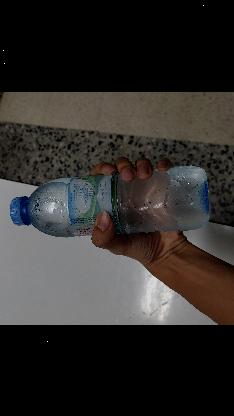Plastic Bottle: (8, 160, 212, 240)
